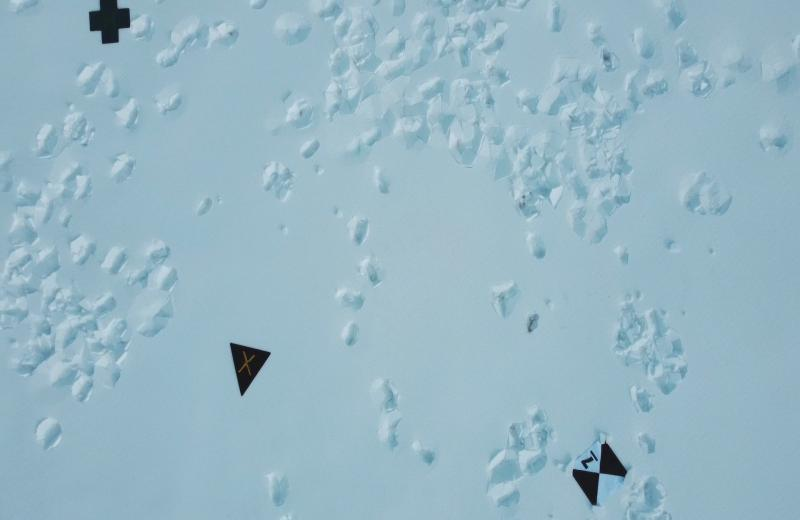Cross: (89, 0, 132, 45)
Triangle: (226, 341, 272, 398)
